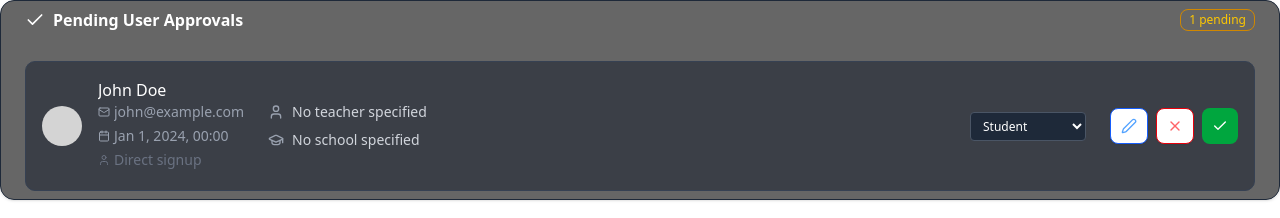
Test: PendingUsers › should approve user when approve button is clicked
expect the heading "John Doe" is shown: met, box top-left (98, 79), bottom-right (166, 101)
Click the 3rd button at (1220, 126), box top-left (1202, 108), bottom-right (1238, 144)
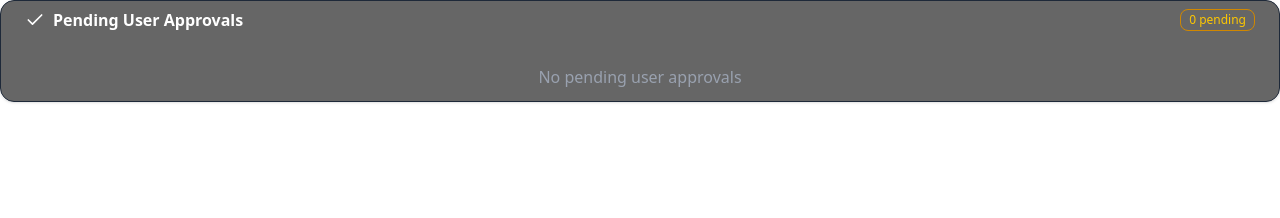
expect the heading "John Doe" is gone: met
